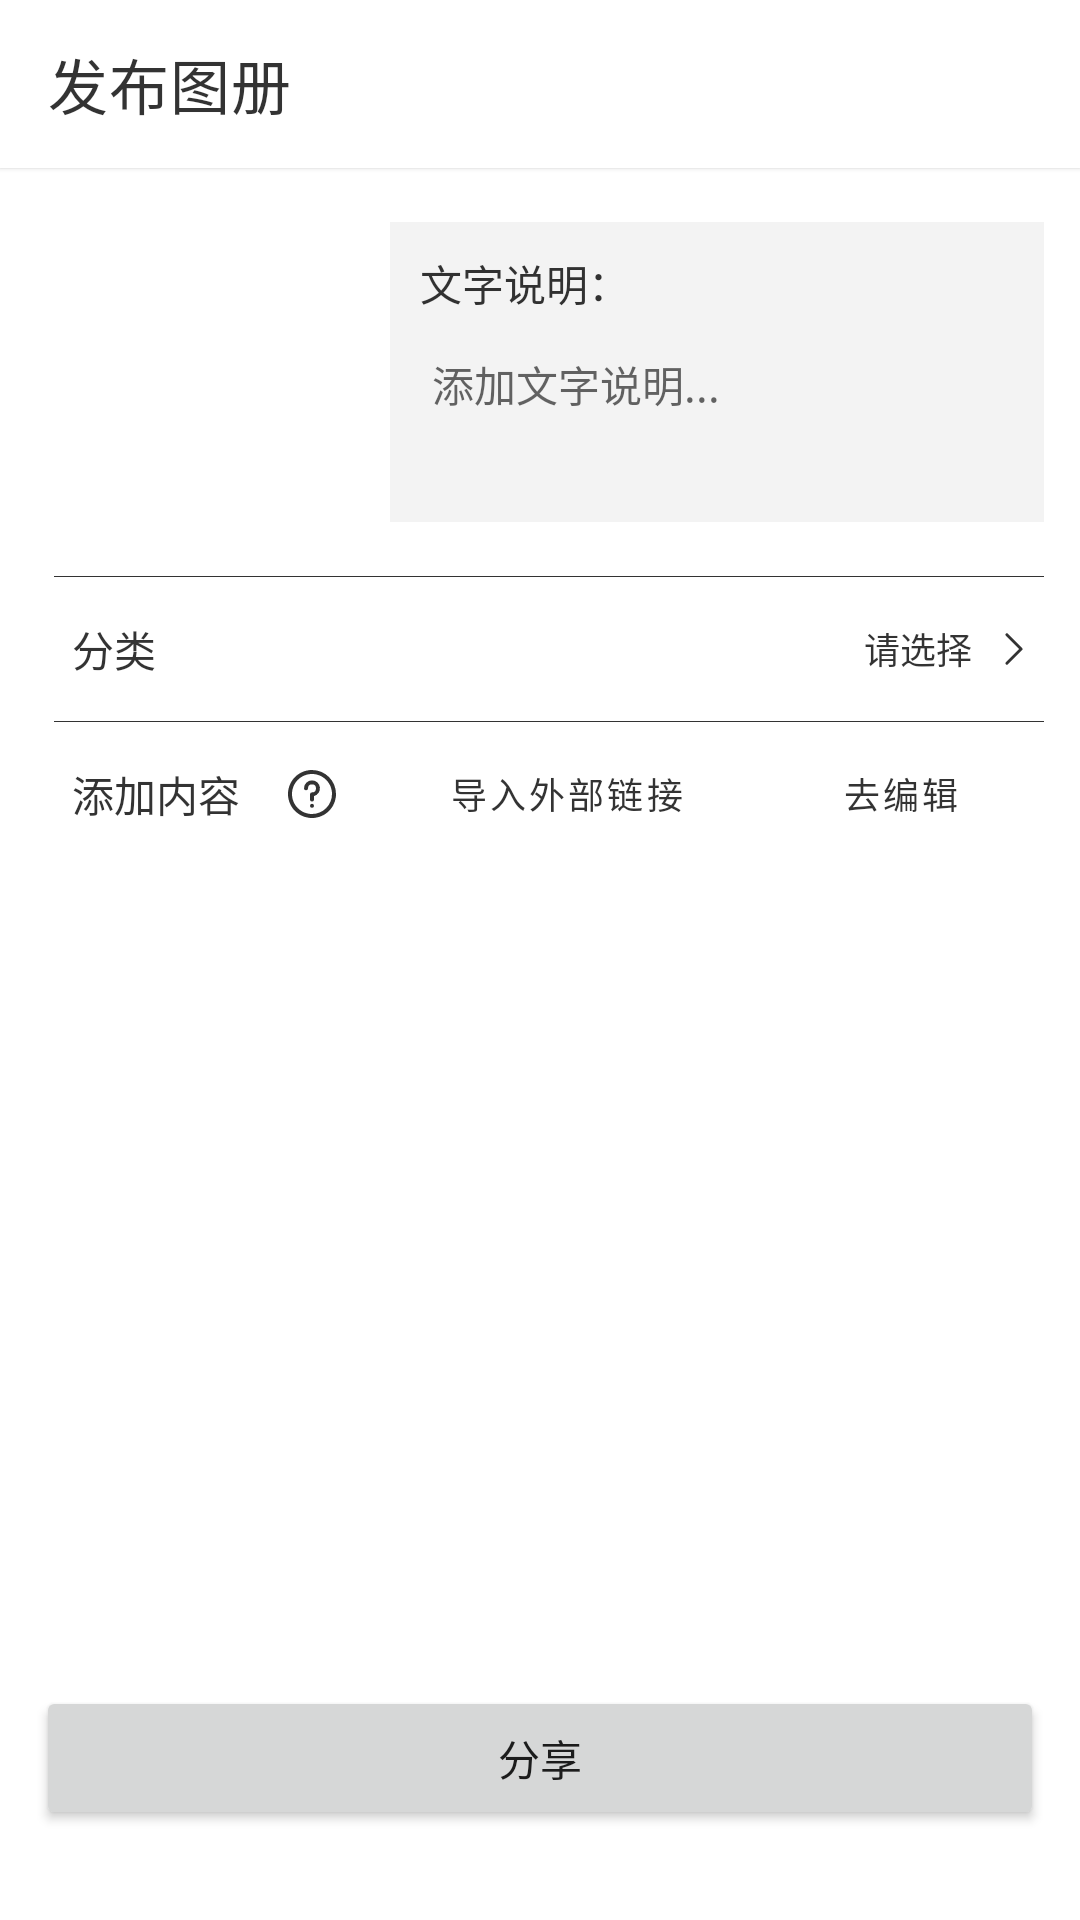

Icon bounding boxes for this 1080w x 1920h phone screenshot, format [x1,y1,x2,y2]:
next: [1005,633,1023,665]
